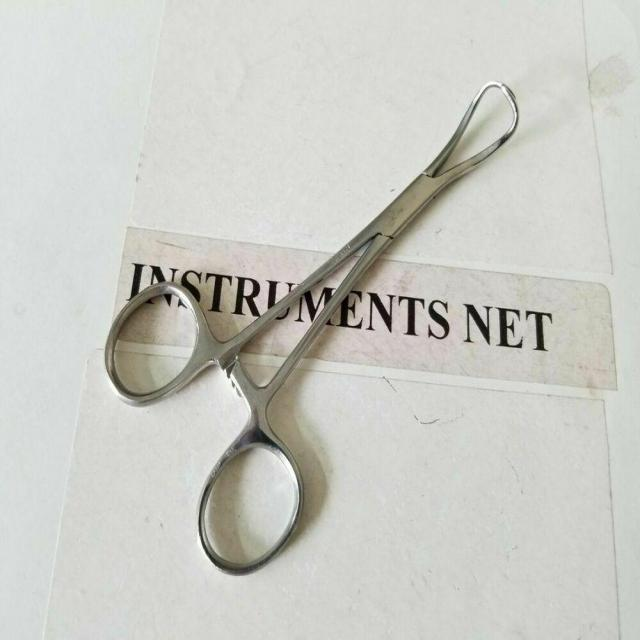Towel_clip: (100, 78, 523, 582)
